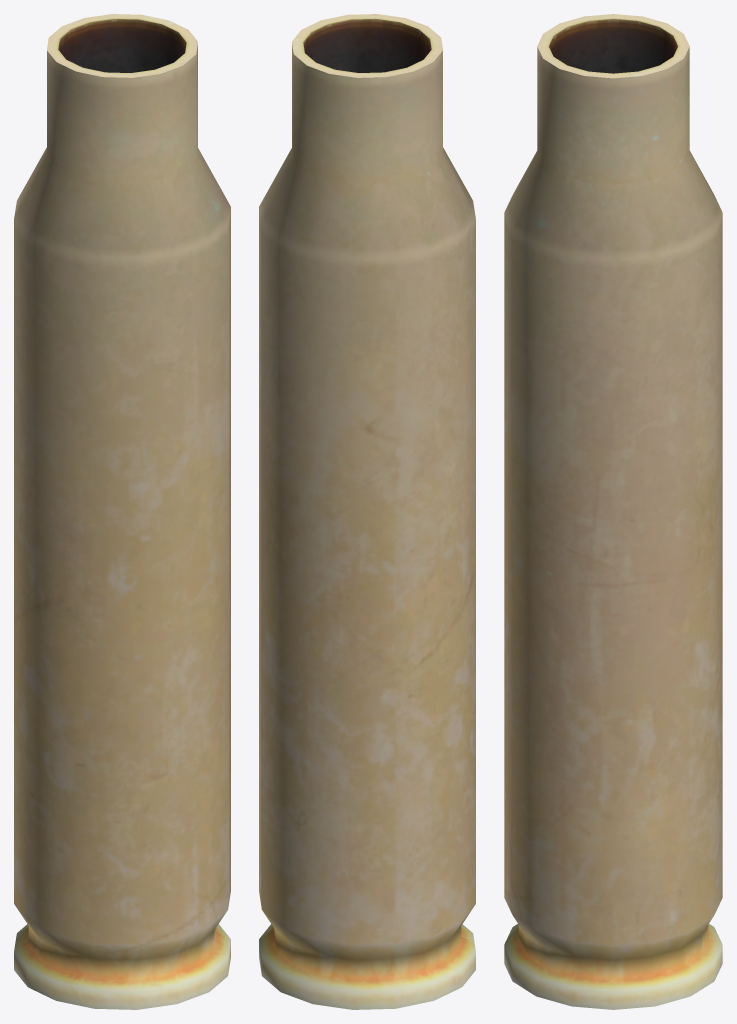
File: SM_Ammo_02b.glb
3 views of the same model, side by side, from view 1: azimuth 30°, elevation 25°; view 2: azimuth 150°, elevation 25°; view 3: azimuth 270°, elevation 25° (orthographic).
Visible parts, largest first — view 1: SM_Ammo_02b; view 2: SM_Ammo_02b; view 3: SM_Ammo_02b.
Part boxes in pixels (box(x1,y1,x2,y2)): SM_Ammo_02b: box(14, 14, 230, 1009); SM_Ammo_02b: box(259, 14, 475, 1009); SM_Ammo_02b: box(504, 14, 722, 1009).
Bounding box in the file's own units: 0.0103 × 0.0476 × 0.0103.
Materials: 1 (1 with a texture image).
